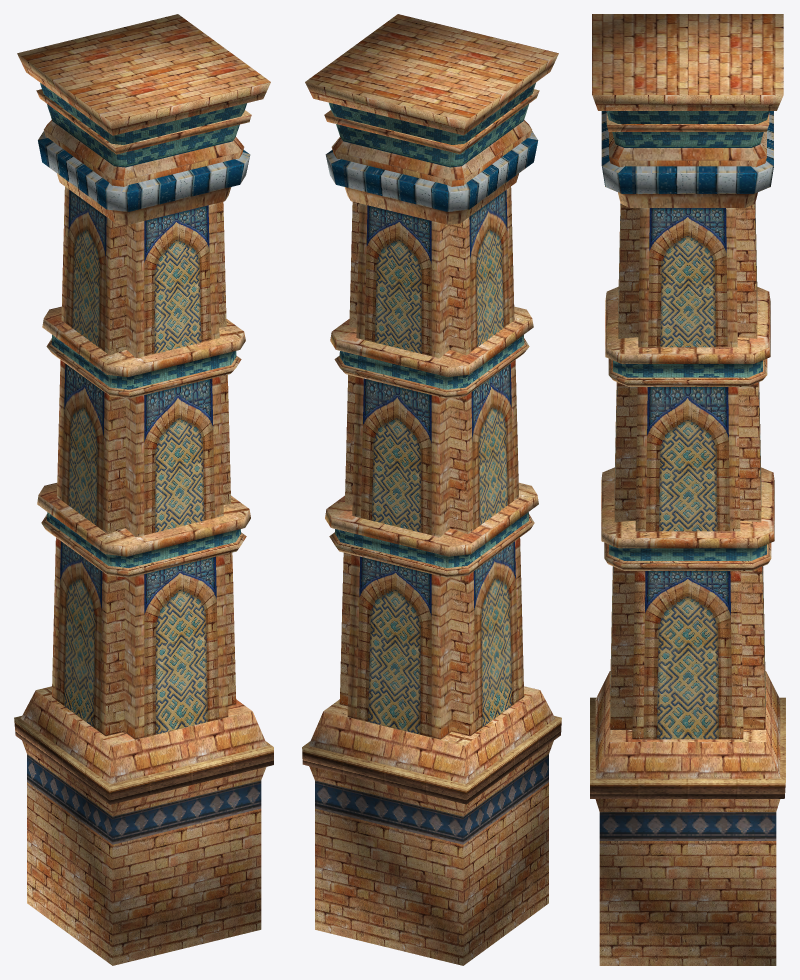
The model's file is OBJSquarePillarMid.gltf.
3 views of the same model, side by side, from view 1: azimuth 30°, elevation 25°; view 2: azimuth 150°, elevation 25°; view 3: azimuth 270°, elevation 25° (orthographic). The views are drawn at different scales.
Visible parts, largest first — view 1: SquarePillarMid; view 2: SquarePillarMid; view 3: SquarePillarMid.
Boxes of the visible parts, x1=… form: SquarePillarMid: x1=14, y1=14, x2=273, y2=965; SquarePillarMid: x1=302, y1=14, x2=561, y2=965; SquarePillarMid: x1=590, y1=14, x2=785, y2=965.
Size of the model in its own units: 2.04 by 10.02 by 2.04.
2 materials, 2 textured.
